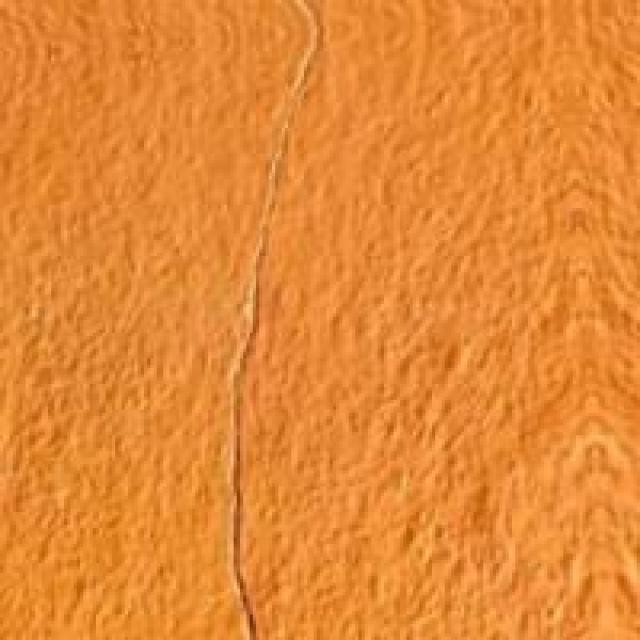crack: (211, 131, 365, 637)
